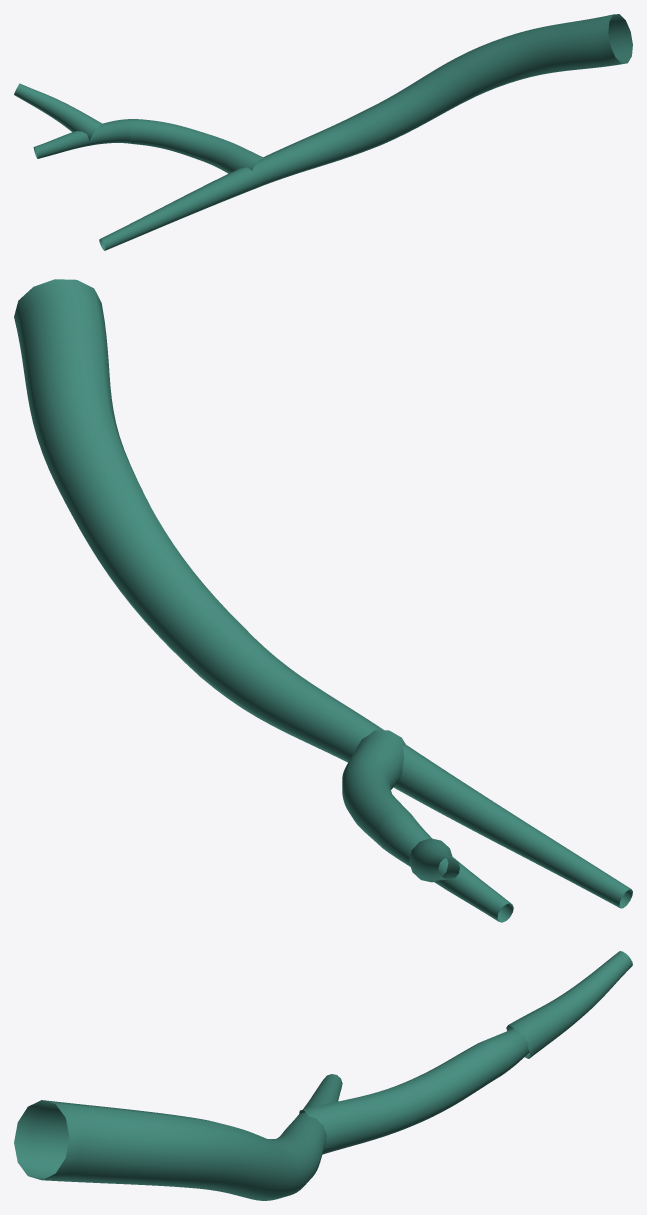
3 views of the same model, one above another, from view 1: azimuth 30°, elevation 25°; view 2: azimuth 150°, elevation 25°; view 3: azimuth 270°, elevation 25° (orthographic). The views are drawn at different scales.
Parts seen in each view (by area): view 1: 右肺前底段支气管（第8段）; view 2: 右肺前底段支气管（第8段）; view 3: 右肺前底段支气管（第8段）.
Part boxes in pixels (x1=…): 右肺前底段支气管（第8段）: x1=14, y1=14, x2=632, y2=250; 右肺前底段支气管（第8段）: x1=14, y1=279, x2=632, y2=922; 右肺前底段支气管（第8段）: x1=14, y1=951, x2=632, y2=1200.
Bounding box in the file's own units: 0.1166 × 0.0498 × 0.0905.
